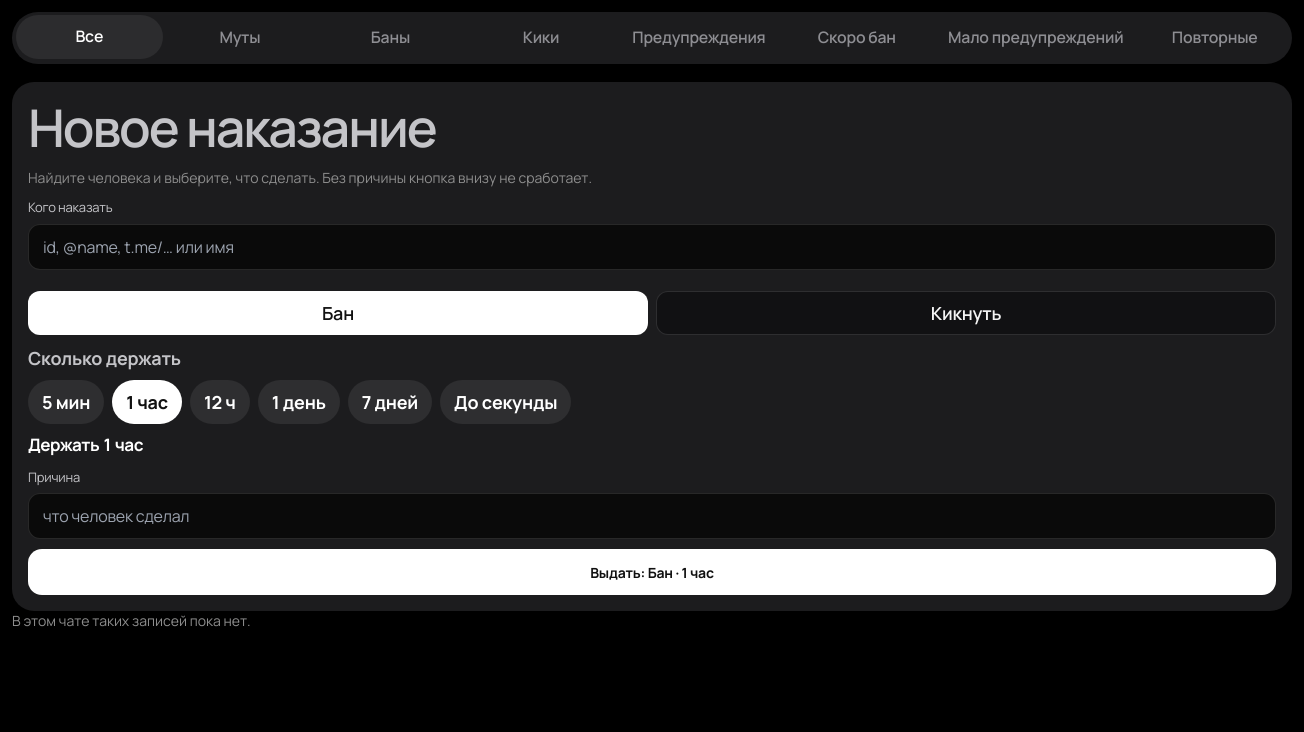
Test: GroupArchive › sends any span for a punishment the seat can issue
Click the button "До секунды" at {"x": 506, "y": 402}, box 440,380 -> 571,424
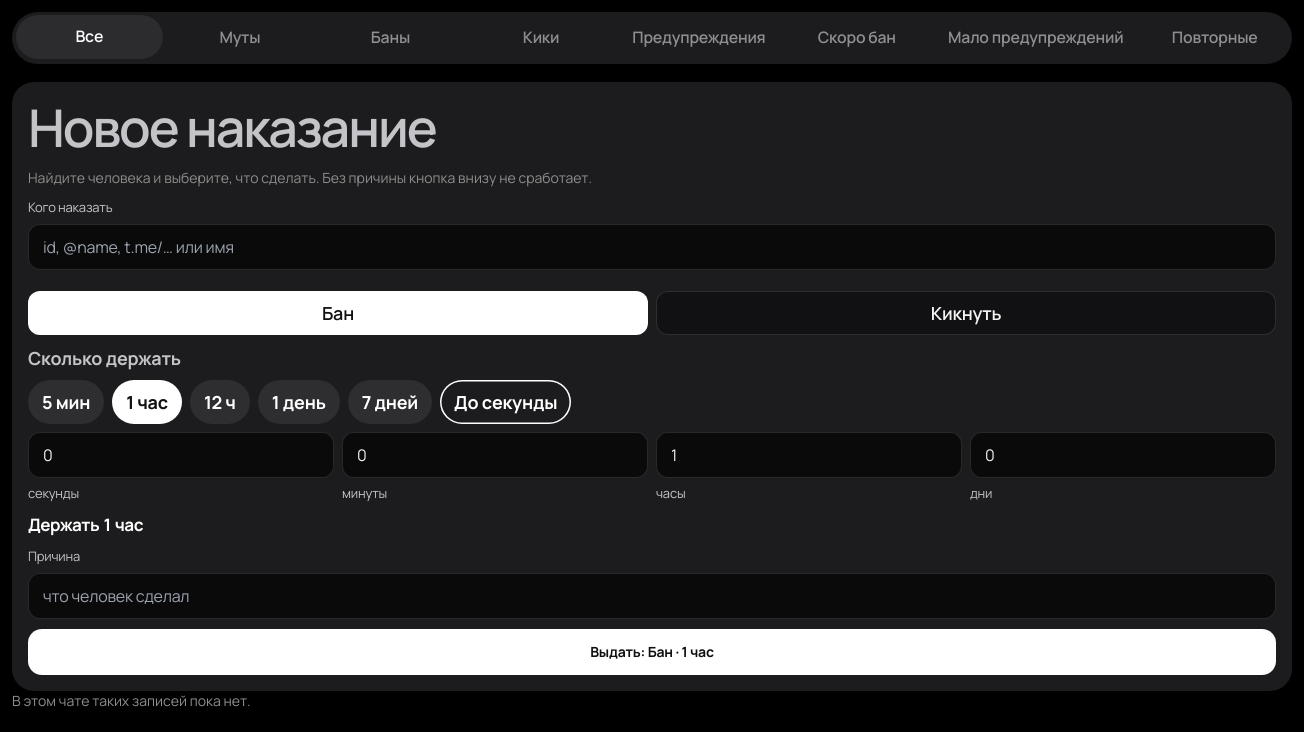
Replace the text in the field labelled "часы" with "0" at {"x": 809, "y": 455}, box 656,432 -> 962,478
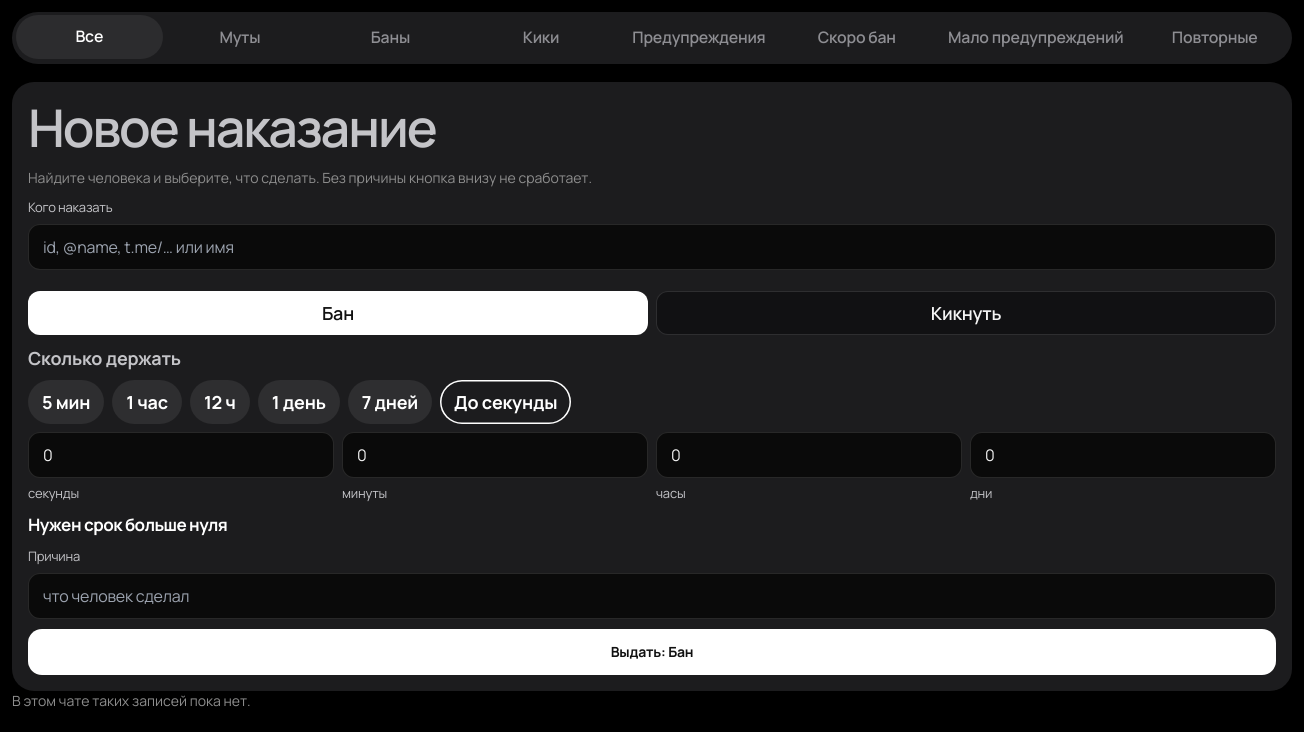
Replace the text in the field labelled "дни" with "3" at {"x": 1123, "y": 455}, box 970,432 -> 1276,478
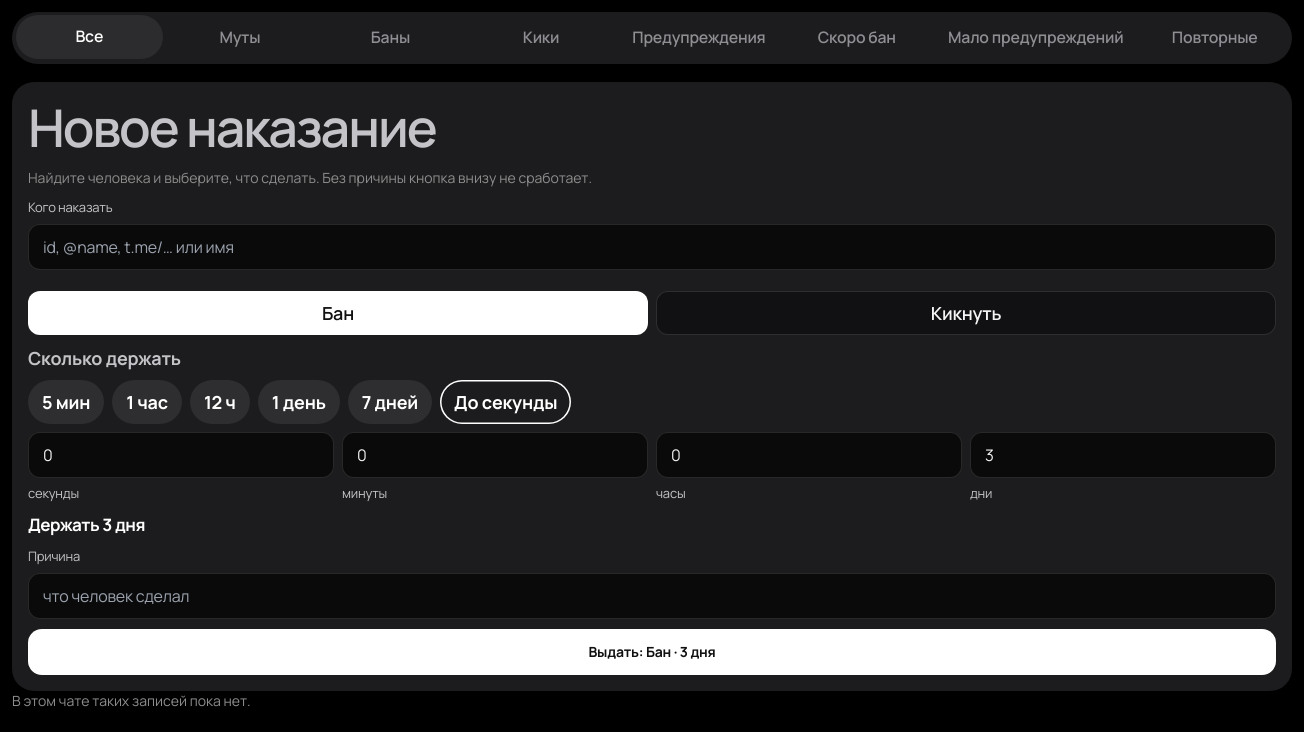
Type "спам" into the field with placeholder "что человек сделал" at {"x": 652, "y": 596}, box 28,573 -> 1276,619
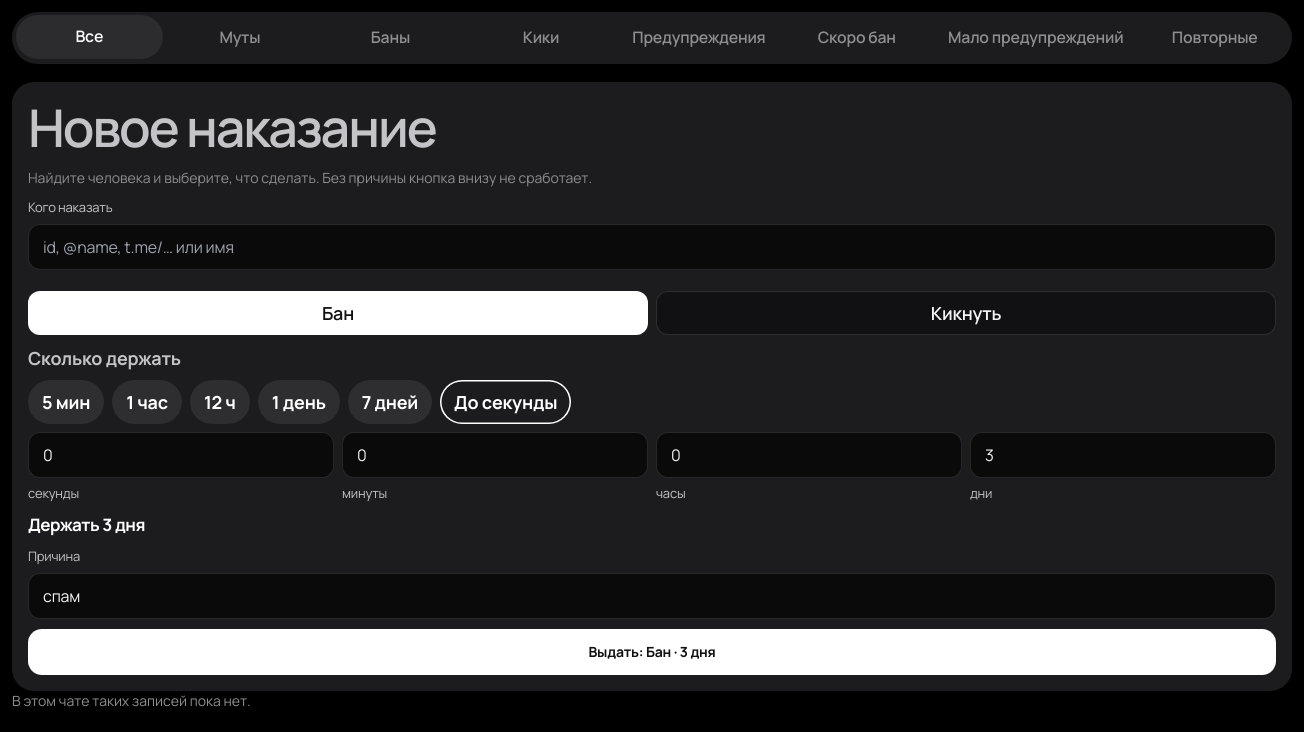
Click the button "Выдать: Бан · 3 дня" at {"x": 652, "y": 652}, box 28,629 -> 1276,675
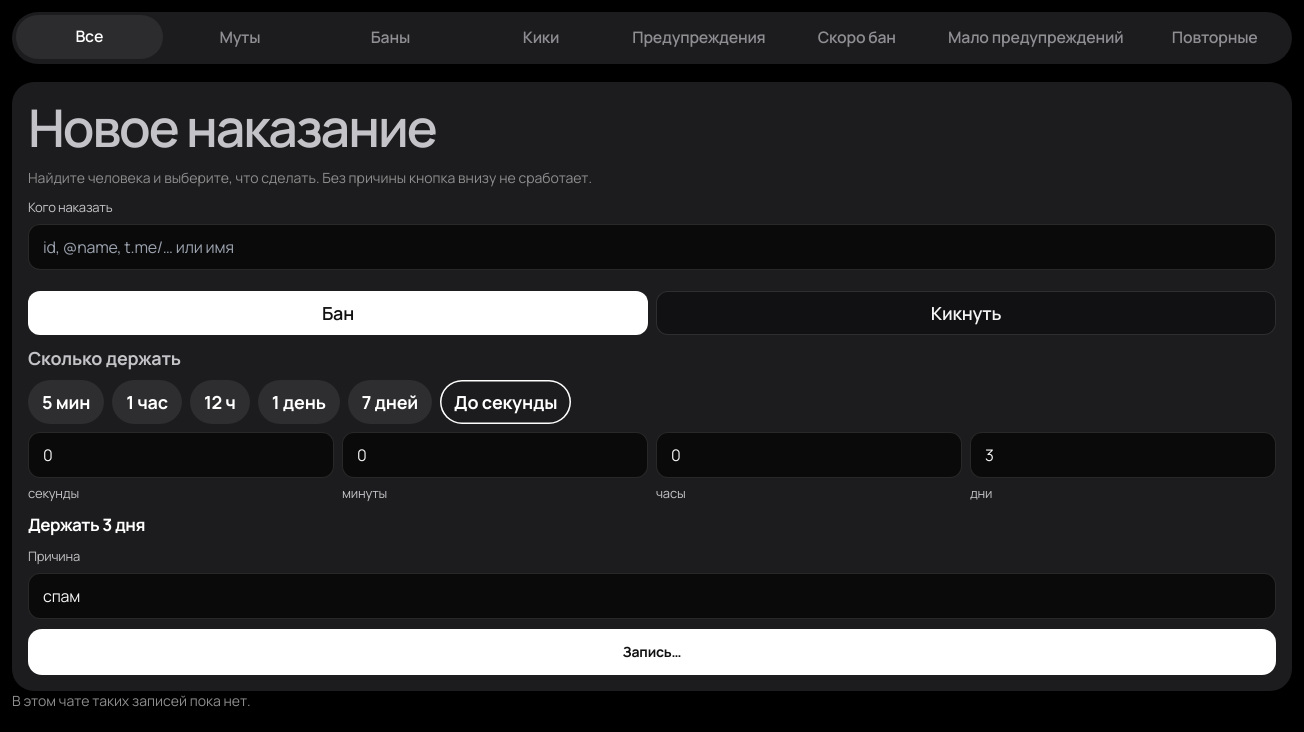
Click the button "Кикнуть" at {"x": 966, "y": 313}, box 656,291 -> 1276,335
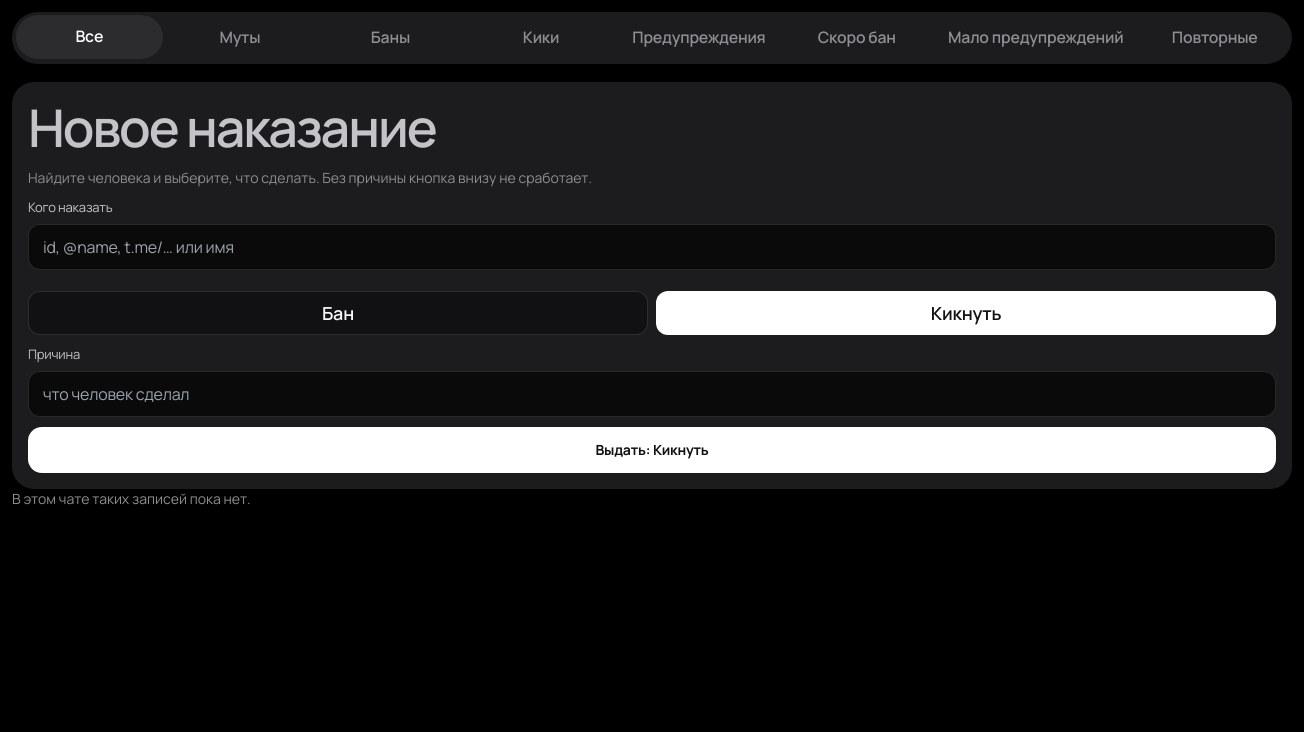
Result: the button "До секунды" is gone
